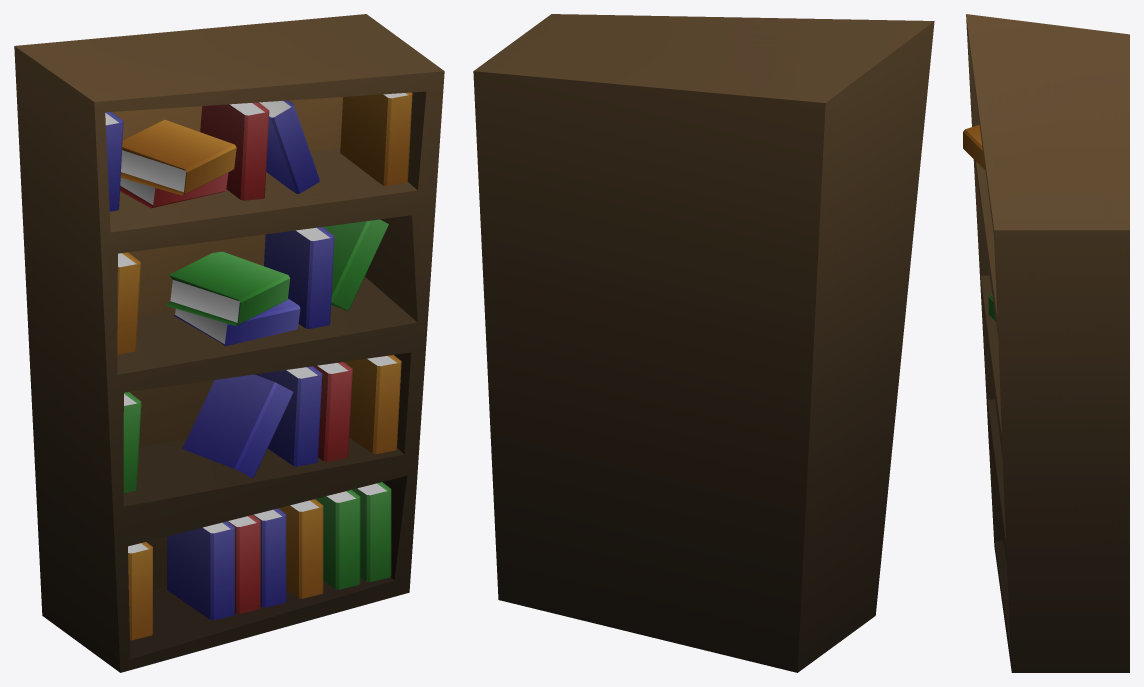
The model's file is libreria.fbx.
3 renders of one model, left to right at view 1: azimuth 30°, elevation 25°; view 2: azimuth 150°, elevation 25°; view 3: azimuth 270°, elevation 25°, orthographic. The views are drawn at different scales.
Visible parts, largest first — view 1: SM_libro23; view 2: SM_libro23; view 3: SM_libro23.
Part boxes in pixels (x1,y1,x2,y2): SM_libro23: (14,14,444,672); SM_libro23: (473,14,934,672); SM_libro23: (963,14,1129,672).
Bounding box in the file's own units: 271 × 419 × 123.
